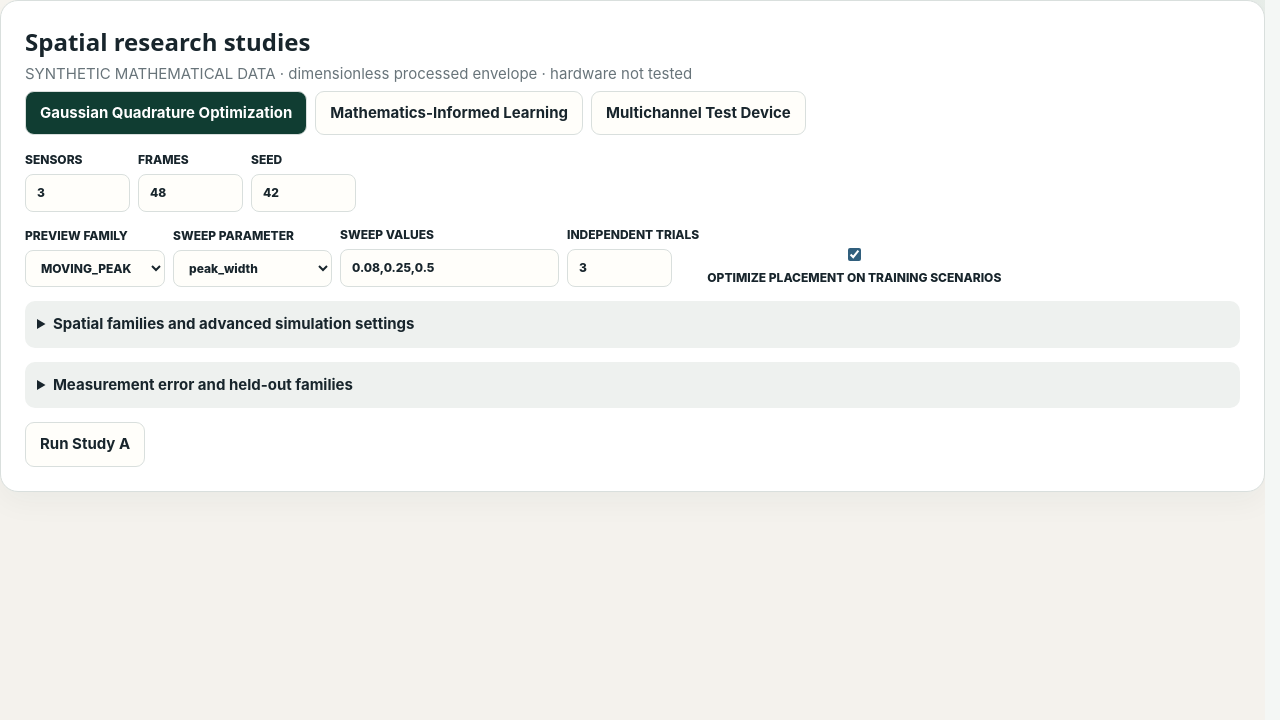
submits reproducible mathematical studies with distinct tasks and constrained variants
This screenshot has width=1280, height=720.
Click the button "Run Study A" at (85, 444), box [25,422,145,466]
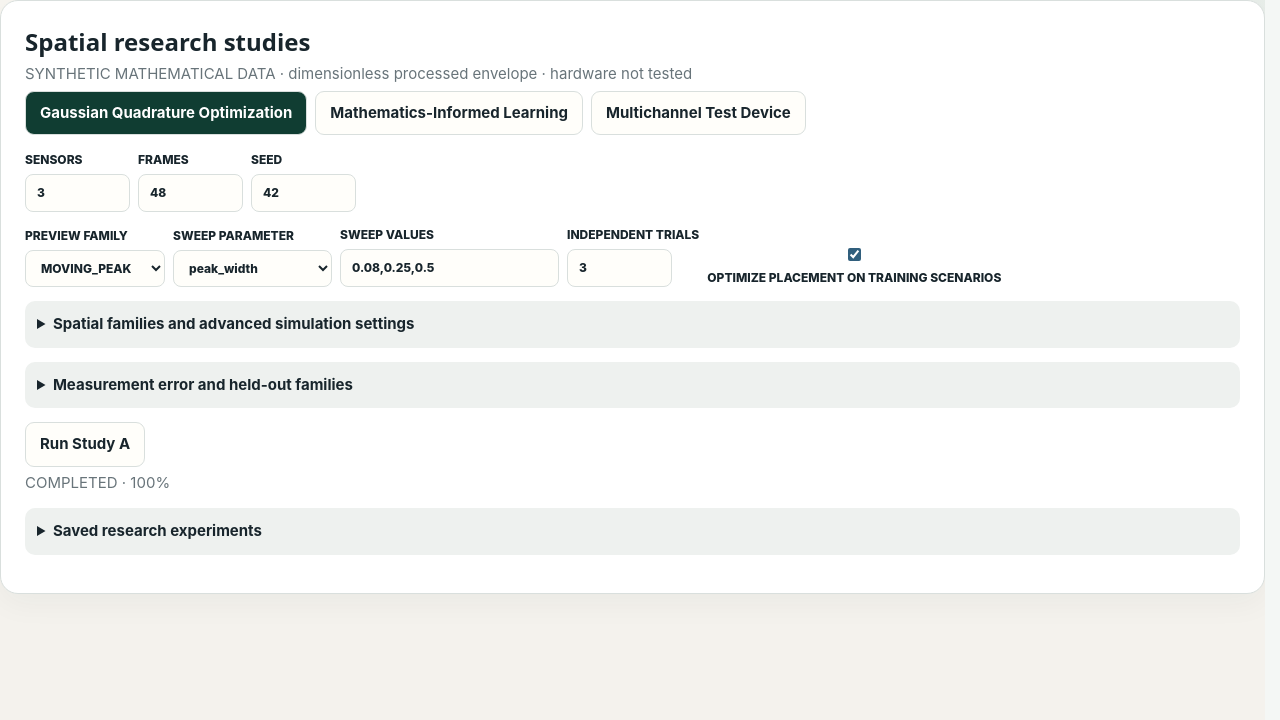
Result: the text "COMPLETED · 100%" is shown at [25,472,170,492]
Click the tab "Mathematics-Informed Learning" at (449, 113), box [315,90,583,135]
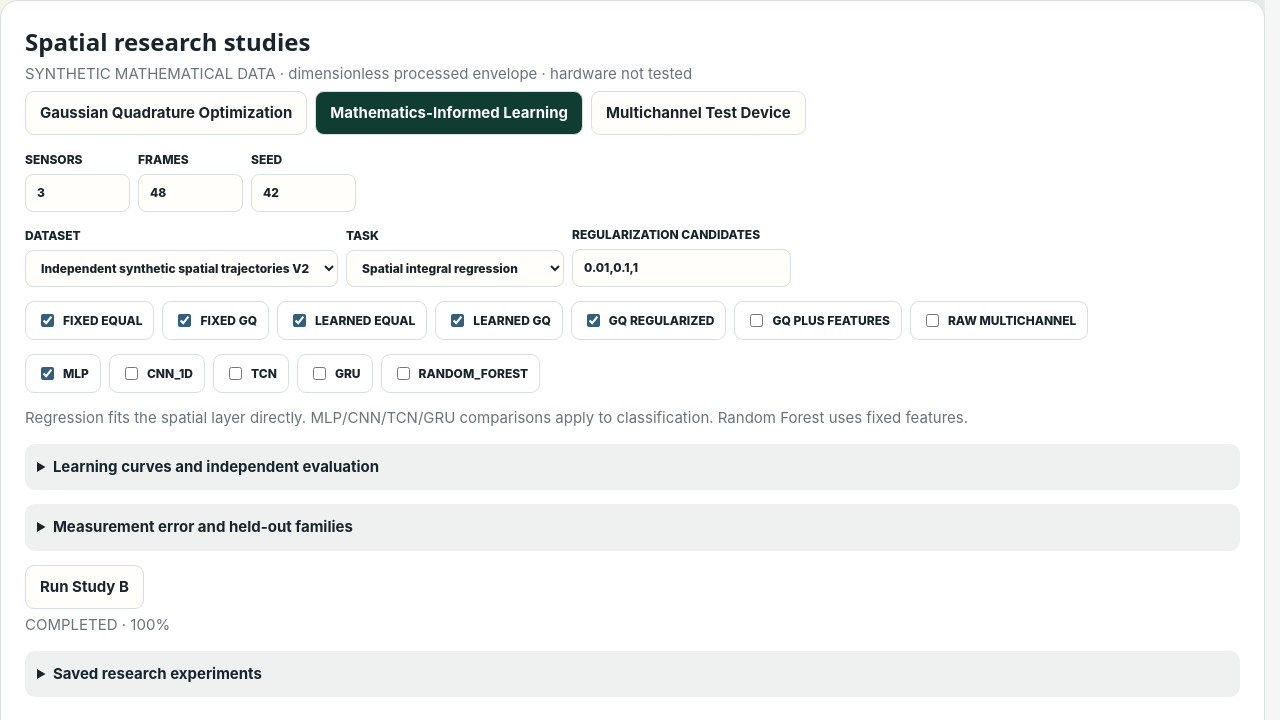
Result: the text "GQ REGULARIZED" is shown at [571,301,726,340]
